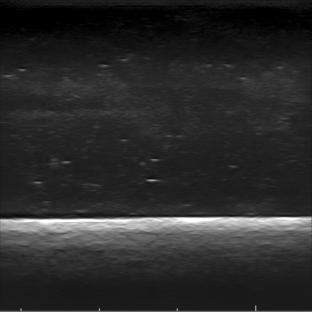vessel: (0, 79, 144, 125)
